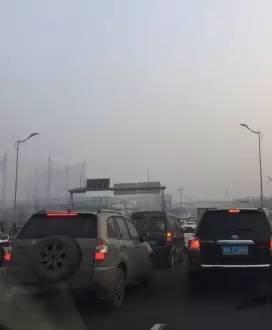car: (8, 207, 153, 312), (187, 207, 271, 305), (128, 209, 185, 269)
